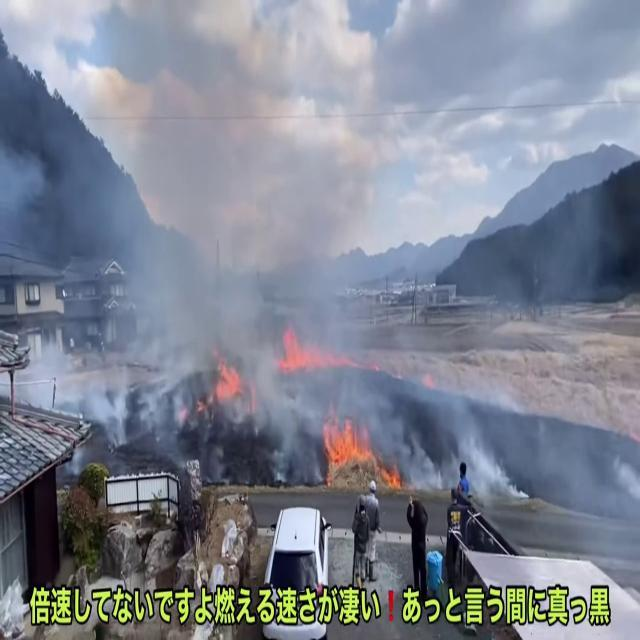Fire: (318, 398, 402, 488), (207, 344, 246, 410), (276, 316, 314, 377)
Smoke: (0, 22, 388, 440), (428, 334, 640, 568)
